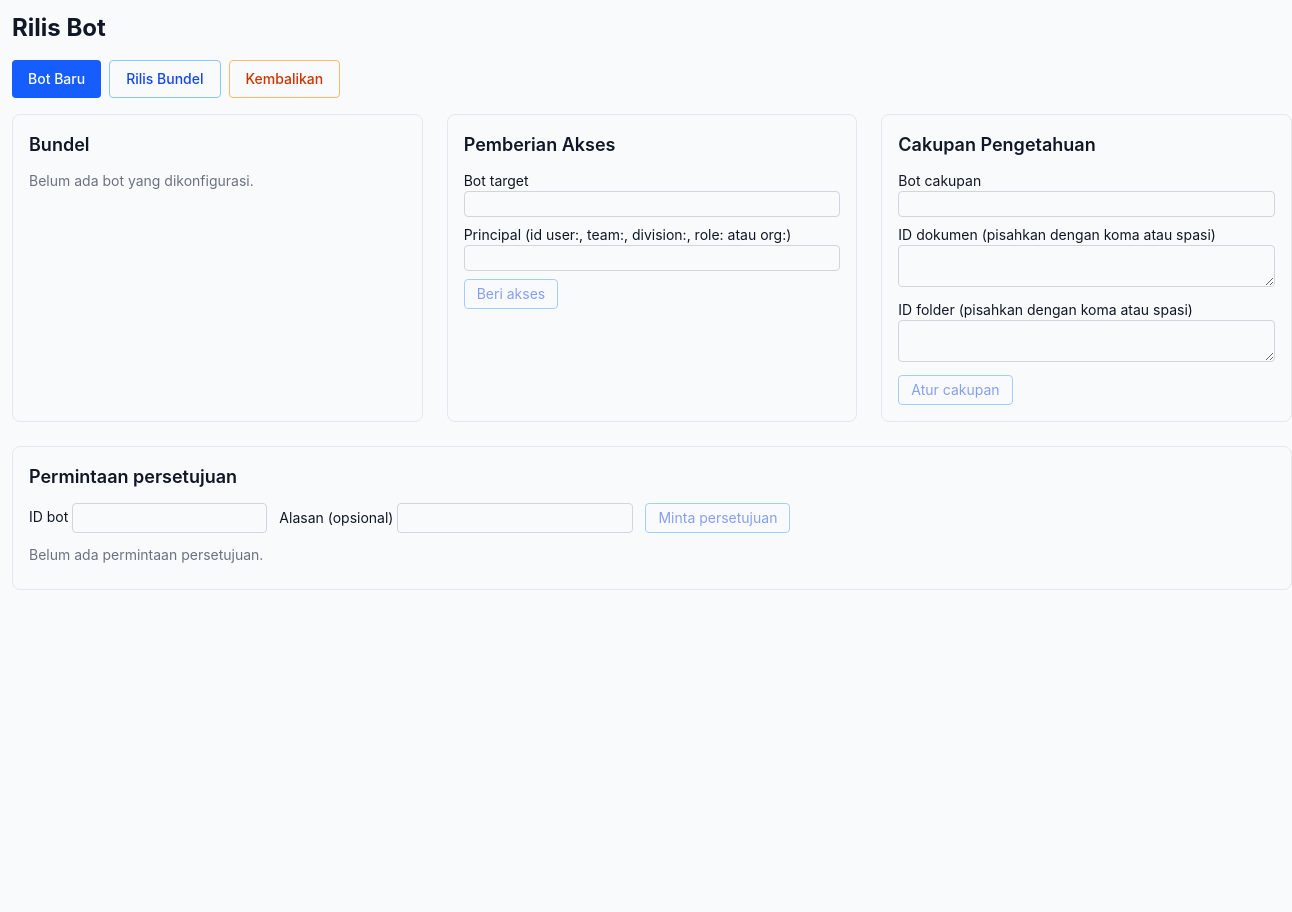
it: BotReleaseScreen › labels the New Bot form in Indonesian
Click the button "Bot Baru" at (57, 79), box [12,60,101,98]
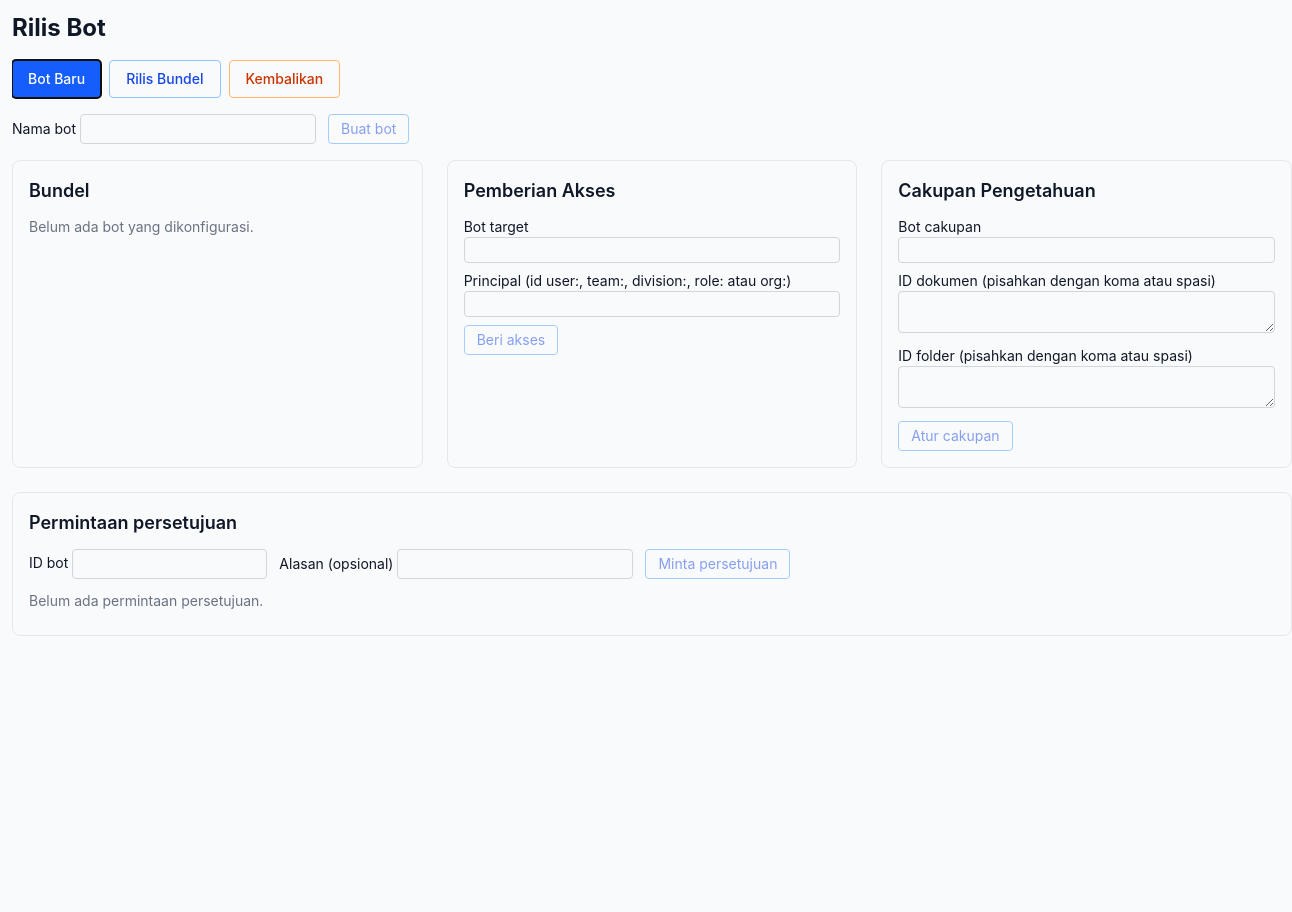
Expected: the field labelled "Nama bot" is shown, [80,114,316,144]
Expected: the button "Buat bot" is shown, [328,114,409,144]
